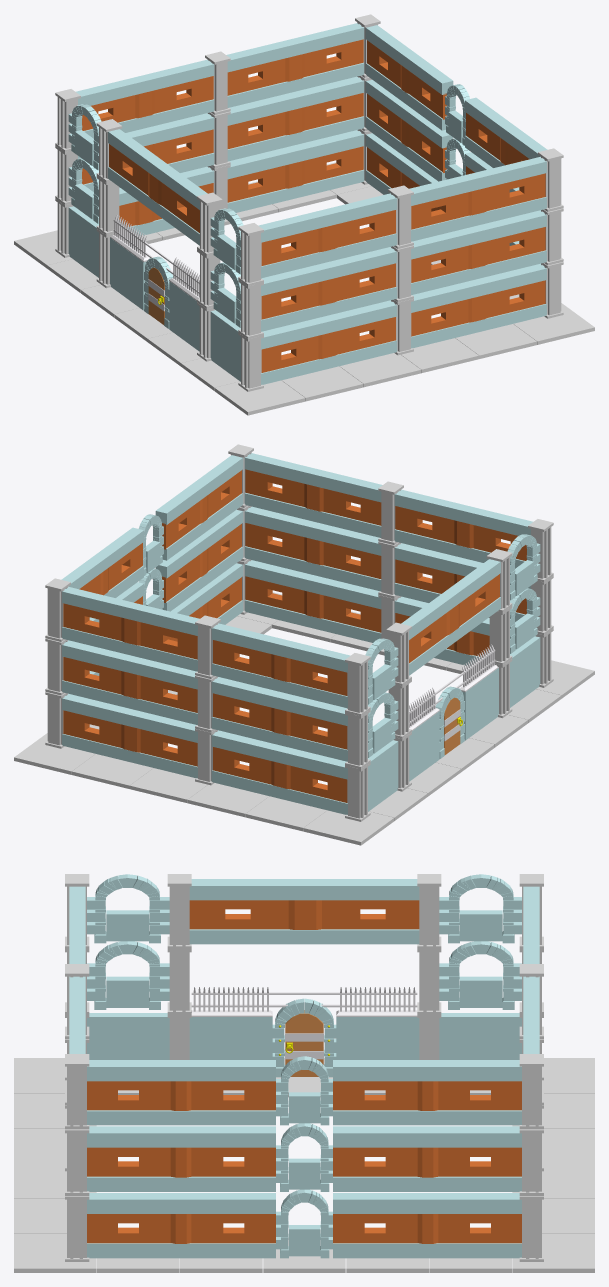
Rendered from BLD.fbx.
The picture shows the model from 3 angles, top to bottom: view 1: azimuth 30°, elevation 25°; view 2: azimuth 150°, elevation 25°; view 3: azimuth 270°, elevation 25°; orthographic projection. The views are drawn at different scales.
Visible parts, largest first — view 1: 立方體.019, 立方體.020, 立方體.022, 立方體.013, 立方體.008, 立方體.016, 立方體.027, 平面.003, 立方體.001, 平面.001, 立方體.014, 立方體.031 (+22 smaller); view 2: 立方體.019, 立方體.020, 立方體.022, 立方體.013, 立方體.008, 立方體.016, 立方體.027, 平面.003, 立方體.001, 平面.001, 立方體.014, 立方體.031 (+22 smaller); view 3: 立方體.029, 立方體.027, 立方體.031, 立方體.014, 立方體.001, 平面.001, 平面.002, 立方體.018, 立方體.012, 平面.003, Torus, 立方體.023 (+16 smaller).
Part boxes in pixels (bbox=[...]): 立方體.019: bbox=[226, 23, 546, 241]; 立方體.020: bbox=[227, 76, 546, 295]; 立方體.022: bbox=[227, 130, 546, 348]; 立方體.013: bbox=[75, 59, 397, 278]; 立方體.008: bbox=[78, 113, 397, 331]; 立方體.016: bbox=[119, 166, 397, 384]; 立方體.027: bbox=[365, 25, 547, 167]; 平面.003: bbox=[14, 230, 305, 415]; 立方體.001: bbox=[68, 206, 240, 381]; 平面.001: bbox=[140, 204, 479, 401]; 立方體.014: bbox=[108, 129, 207, 245]; 立方體.031: bbox=[365, 79, 519, 192]; 立方體.019: bbox=[62, 453, 382, 671]; 立方體.020: bbox=[62, 506, 381, 725]; 立方體.022: bbox=[62, 560, 381, 778]; 立方體.013: bbox=[211, 489, 533, 708]; 立方體.008: bbox=[211, 543, 530, 761]; 立方體.016: bbox=[211, 596, 489, 814]; 立方體.027: bbox=[61, 455, 243, 597]; 平面.003: bbox=[303, 660, 594, 845]; 立方體.001: bbox=[368, 636, 540, 811]; 平面.001: bbox=[129, 634, 468, 831]; 立方體.014: bbox=[401, 559, 500, 675]; 立方體.031: bbox=[89, 509, 243, 622]; 立方體.029: bbox=[87, 1193, 521, 1258]; 立方體.027: bbox=[87, 1060, 521, 1125]; 立方體.031: bbox=[87, 1126, 521, 1191]; 立方體.014: bbox=[189, 879, 419, 944]; 立方體.001: bbox=[87, 1013, 521, 1059]; 平面.001: bbox=[14, 1093, 594, 1198]; 平面.002: bbox=[14, 1233, 594, 1272]; 立方體.018: bbox=[87, 874, 521, 943]; 立方體.012: bbox=[87, 941, 521, 1009]; 平面.003: bbox=[14, 1058, 594, 1094]; Torus: bbox=[272, 998, 336, 1077]; 立方體.023: bbox=[191, 987, 417, 1016].
Size of the model in its own units: 10192 by 4598 by 11892.
